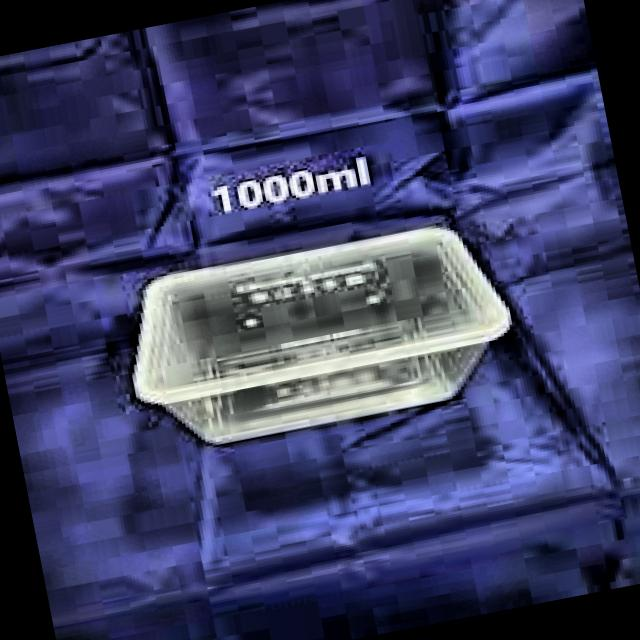plastic container: (135, 227, 511, 444)
